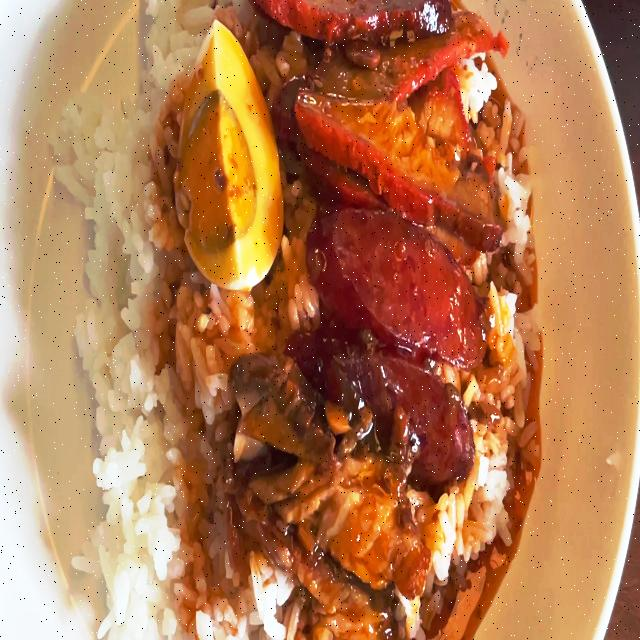boiled_egg: (175, 32, 284, 284)
chainese_sausage: (293, 211, 472, 457)
crispy_pork: (270, 433, 426, 640)
red_pork: (285, 0, 507, 220)
red_pork_and_crispy_pork: (73, 0, 530, 640)
rice: (66, 0, 177, 623), (166, 307, 236, 640)
